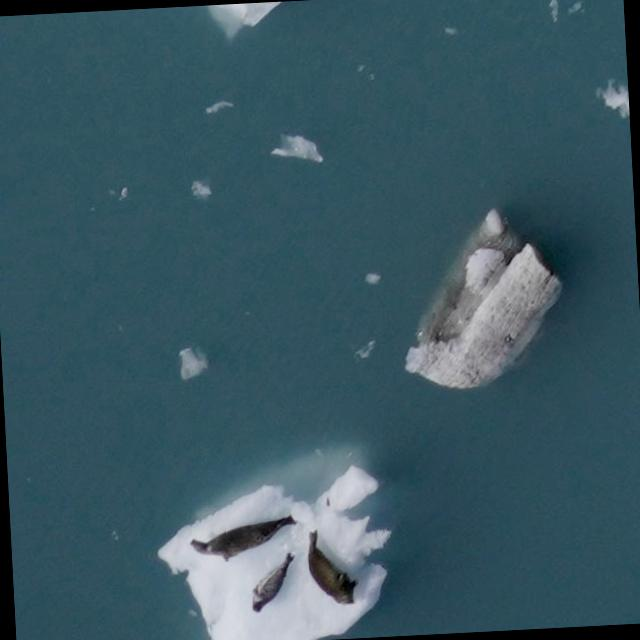seal: (192, 514, 297, 560), (307, 531, 357, 603), (252, 554, 293, 611)
